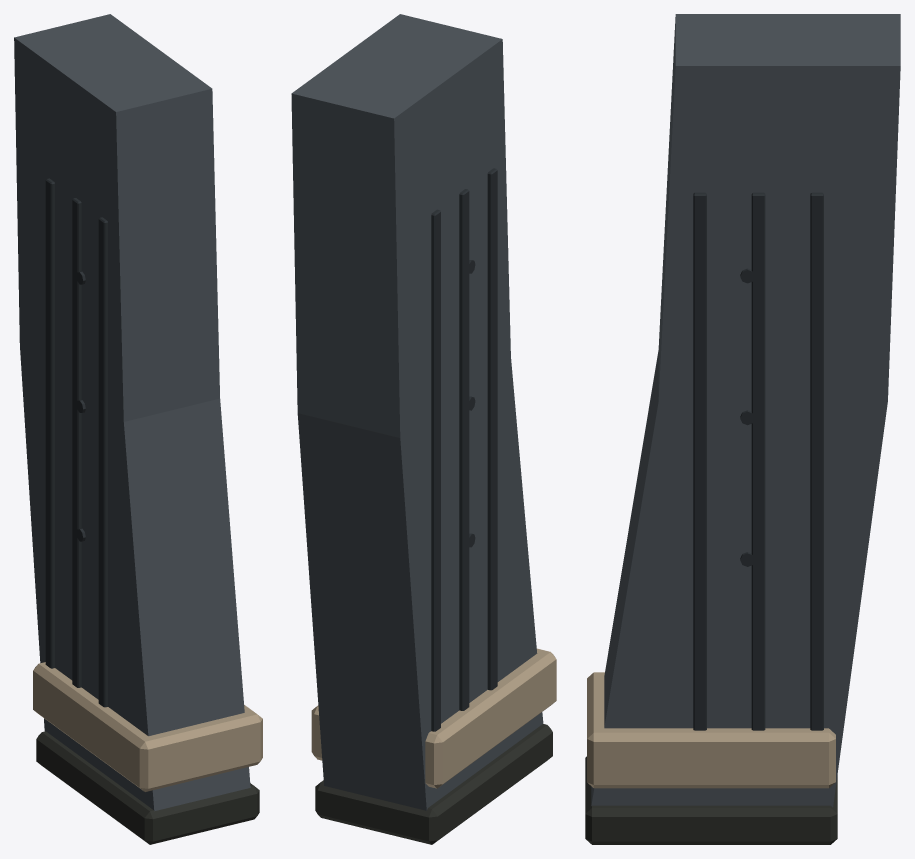
File: att_mag_ram12_extended.glb
3 views of the same model, side by side, from view 1: azimuth 30°, elevation 25°; view 2: azimuth 150°, elevation 25°; view 3: azimuth 270°, elevation 25° (orthographic). The views are drawn at different scales.
Visible parts, largest first — view 1: Geometry_att_mag_ram12_extended; view 2: Geometry_att_mag_ram12_extended; view 3: Geometry_att_mag_ram12_extended.
Part boxes in pixels (x1,y1,x2,y2): Geometry_att_mag_ram12_extended: (14,14,262,844); Geometry_att_mag_ram12_extended: (291,14,556,844); Geometry_att_mag_ram12_extended: (585,14,900,844).
Size of the model in its own units: 0.046 by 0.2514 by 0.0925.
